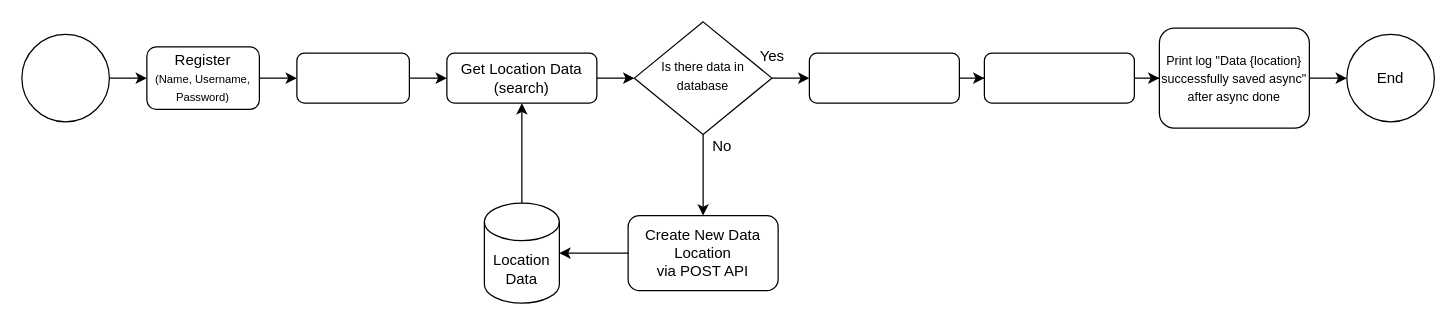
The diagram is 1456 pixels wide and 325 high, and some of its shapes have lost their labels. The shapes that lost their labels are listed below. From the top down, each one's centre as x and y in pixels, then its label:
At (65,77): "Start".
At (352,77): "Login".
At (883,77): "Run Cron Scheduler".
At (1058,77): "Get Location Data From API Metasource".
